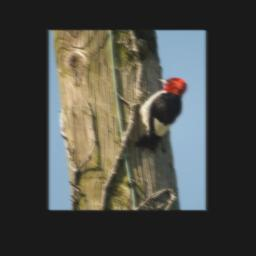Woodpecker: (127, 77, 188, 154)
